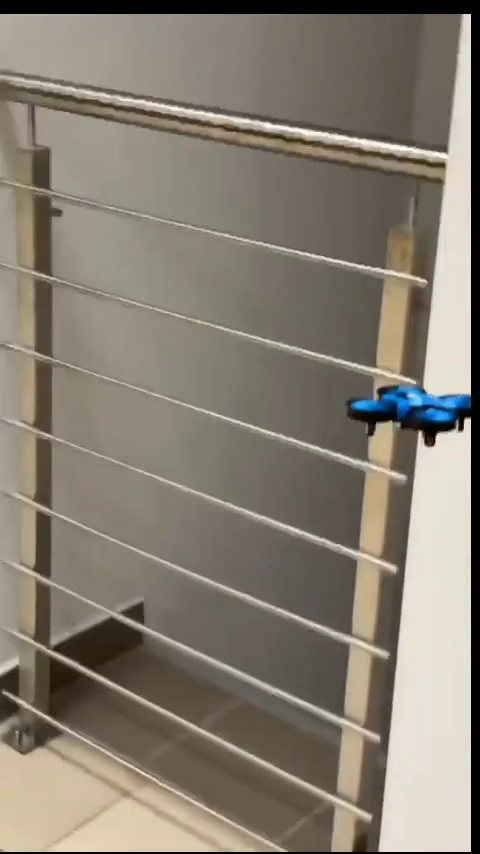drone: (340, 382, 472, 442)
